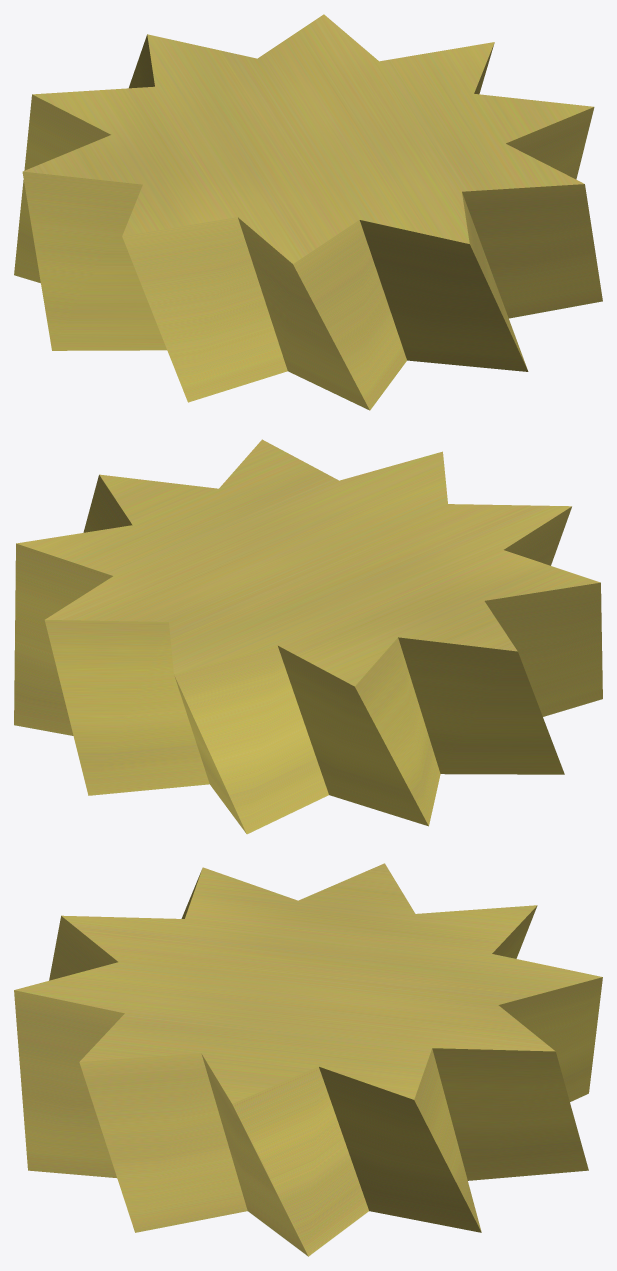
Rendered from ClockStraightSpiral010.fbx.
3 views of the same model, one above another, from view 1: azimuth 30°, elevation 25°; view 2: azimuth 150°, elevation 25°; view 3: azimuth 270°, elevation 25° (orthographic).
Parts seen in each view (by area): view 1: ClockStraightSpiral010; view 2: ClockStraightSpiral010; view 3: ClockStraightSpiral010.
Boxes of the visible parts, x1,y1,x2,y2 form: ClockStraightSpiral010: (14,14,602,410); ClockStraightSpiral010: (14,439,602,834); ClockStraightSpiral010: (14,863,602,1256).
Bounding box in the file's own units: 70.87 × 19.69 × 70.77.
